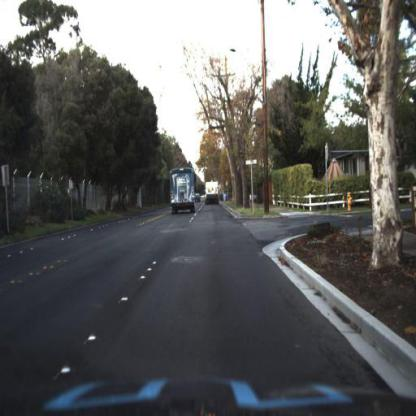truck: (168, 169, 197, 218), (204, 178, 222, 207)
